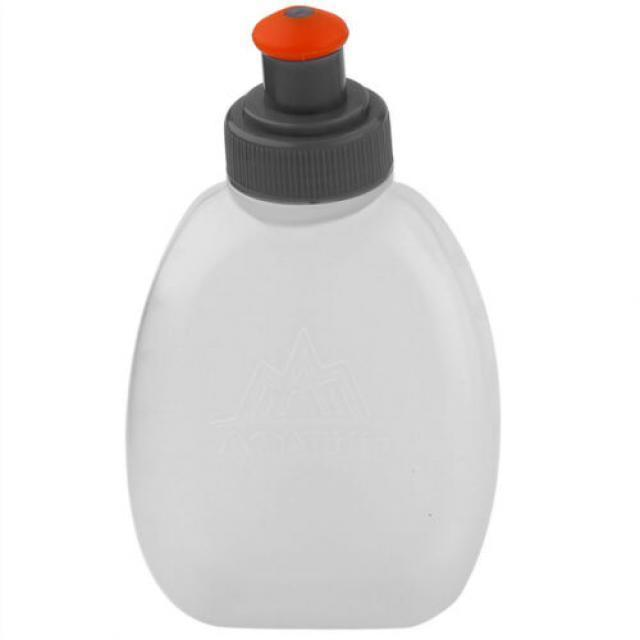Plastic: (124, 7, 500, 630)
